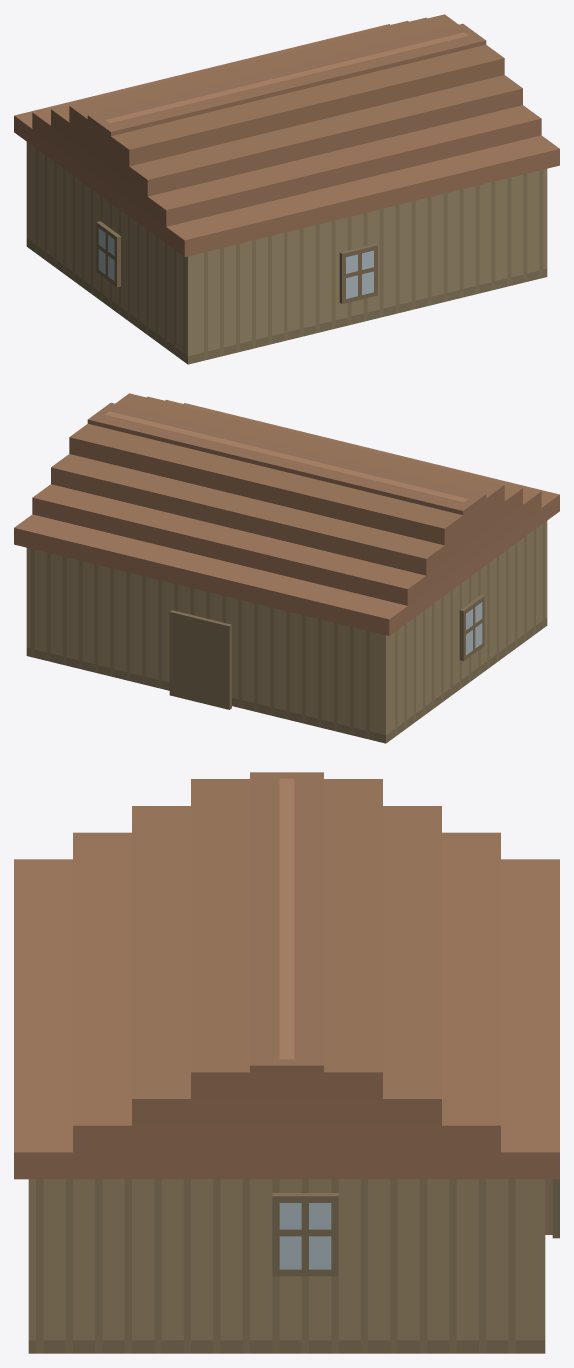
The model's file is curtiduria_04.glb.
3 views of the same model, one above another, from view 1: azimuth 30°, elevation 25°; view 2: azimuth 150°, elevation 25°; view 3: azimuth 270°, elevation 25° (orthographic). The views are drawn at different scales.
Parts seen in each view (by area): view 1: curtiduria_04; view 2: curtiduria_04; view 3: curtiduria_04.
Part boxes in pixels (x1,y1,x2,y2): curtiduria_04: [14, 14, 559, 364]; curtiduria_04: [14, 393, 559, 743]; curtiduria_04: [14, 772, 559, 1353].
Bounding box in the file's own units: 9.4 × 4.4 × 7.4.
